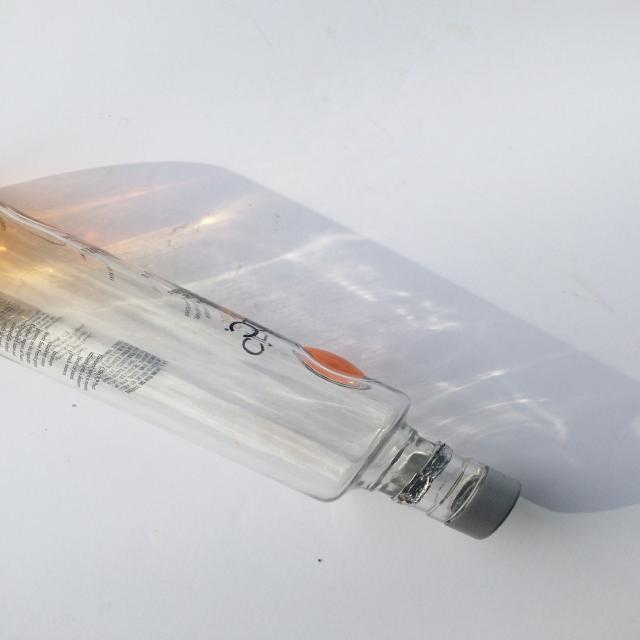glass: (0, 186, 539, 595)
